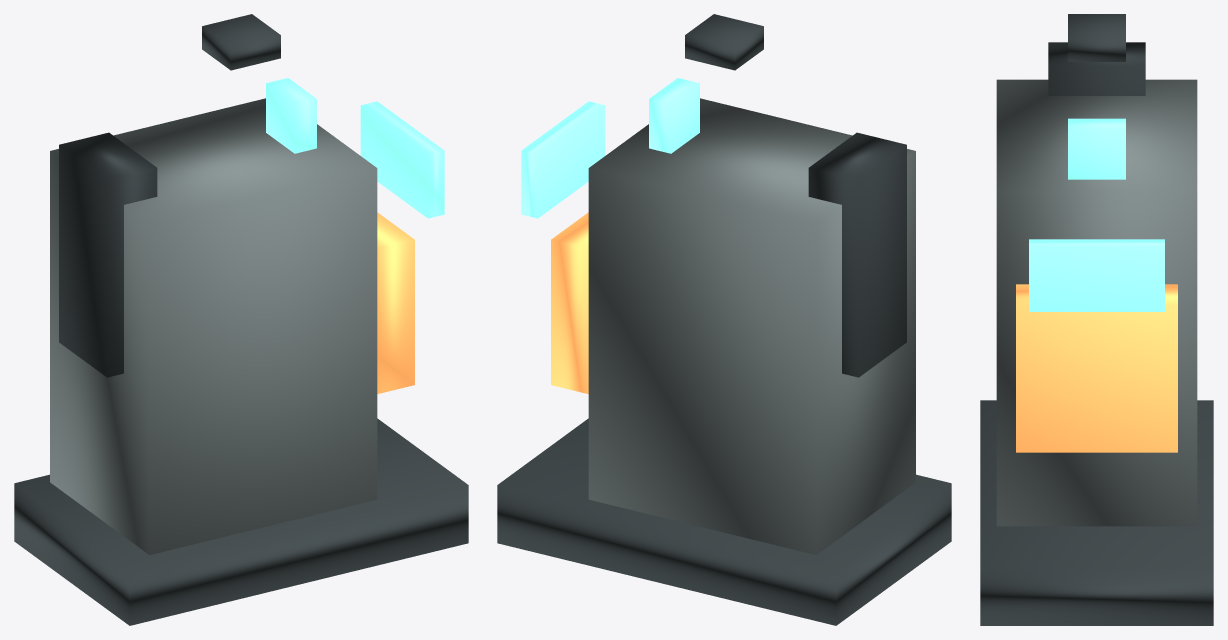
File: jovian-harvester-storm-pressure-lock-lod1.glb
3 renders of one model, left to right at view 1: azimuth 30°, elevation 25°; view 2: azimuth 150°, elevation 25°; view 3: azimuth 270°, elevation 25°, orthographic.
Parts seen in each view (by area): view 1: jovian-harvester-storm-pressure-lock-frame, jovian-harvester-storm-pressure-lock-base, jovian-harvester-storm-pressure-lock-equalization-line, jovian-harvester-pressure-status, jovian-harvester-storm-pressure-lock-wheel, objective-beacon-mount, jovian-harvester-storm-pressure-lock-gauge; view 2: jovian-harvester-storm-pressure-lock-frame, jovian-harvester-storm-pressure-lock-base, jovian-harvester-storm-pressure-lock-equalization-line, jovian-harvester-pressure-status, jovian-harvester-storm-pressure-lock-wheel, objective-beacon-mount, jovian-harvester-storm-pressure-lock-gauge; view 3: jovian-harvester-storm-pressure-lock-frame, jovian-harvester-storm-pressure-lock-base, jovian-harvester-storm-pressure-lock-wheel, jovian-harvester-pressure-status, jovian-harvester-storm-pressure-lock-equalization-line, jovian-harvester-storm-pressure-lock-gauge, objective-beacon-mount.
Boxes of the visible parts, left/top/right/bottom form: jovian-harvester-storm-pressure-lock-frame: left=50, top=98, right=377, bottom=554; jovian-harvester-storm-pressure-lock-base: left=14, top=418, right=468, bottom=625; jovian-harvester-storm-pressure-lock-equalization-line: left=59, top=132, right=157, bottom=377; jovian-harvester-pressure-status: left=360, top=101, right=444, bottom=218; jovian-harvester-storm-pressure-lock-wheel: left=377, top=212, right=414, bottom=393; objective-beacon-mount: left=202, top=14, right=280, bottom=70; jovian-harvester-storm-pressure-lock-gauge: left=266, top=78, right=316, bottom=153; jovian-harvester-storm-pressure-lock-frame: left=588, top=98, right=915, bottom=554; jovian-harvester-storm-pressure-lock-base: left=497, top=418, right=951, bottom=625; jovian-harvester-storm-pressure-lock-equalization-line: left=808, top=132, right=906, bottom=377; jovian-harvester-pressure-status: left=521, top=101, right=605, bottom=218; jovian-harvester-storm-pressure-lock-wheel: left=551, top=212, right=588, bottom=393; objective-beacon-mount: left=685, top=14, right=763, bottom=70; jovian-harvester-storm-pressure-lock-gauge: left=649, top=78, right=699, bottom=153; jovian-harvester-storm-pressure-lock-frame: left=996, top=79, right=1197, bottom=526; jovian-harvester-storm-pressure-lock-base: left=980, top=400, right=1213, bottom=625; jovian-harvester-storm-pressure-lock-wheel: left=1016, top=284, right=1177, bottom=452; jovian-harvester-pressure-status: left=1029, top=239, right=1164, bottom=311; jovian-harvester-storm-pressure-lock-equalization-line: left=1048, top=42, right=1145, bottom=95; jovian-harvester-storm-pressure-lock-gauge: left=1068, top=118, right=1125, bottom=179; objective-beacon-mount: left=1068, top=14, right=1125, bottom=61.
Bounding box in the file's own units: 1.22 × 1.76 × 0.72.
